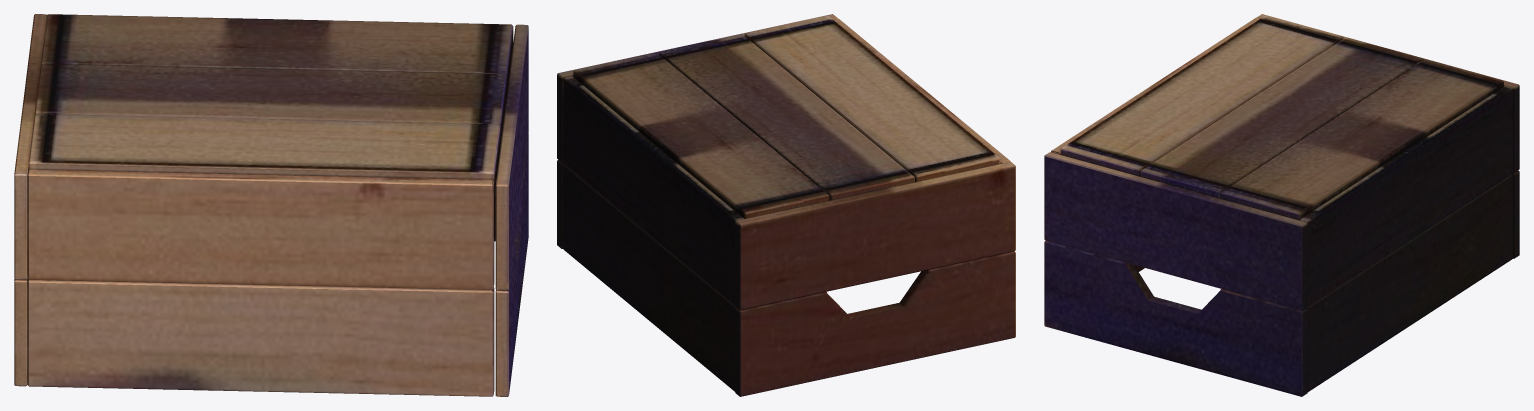
Rendered from wood_box_right.glb.
3 renders of one model, left to right at view 1: azimuth 30°, elevation 25°; view 2: azimuth 150°, elevation 25°; view 3: azimuth 270°, elevation 25°, orthographic. The views are drawn at different scales.
Visible parts, largest first — view 1: wood_box_right; view 2: wood_box_right; view 3: wood_box_right.
Boxes of the visible parts, x1,y1,x2,y2 form: wood_box_right: [14, 14, 528, 396]; wood_box_right: [557, 14, 1015, 396]; wood_box_right: [1044, 14, 1519, 396].
Size of the model in its own units: 3.39 by 1.31 by 3.2.
1 material, 1 textured.
